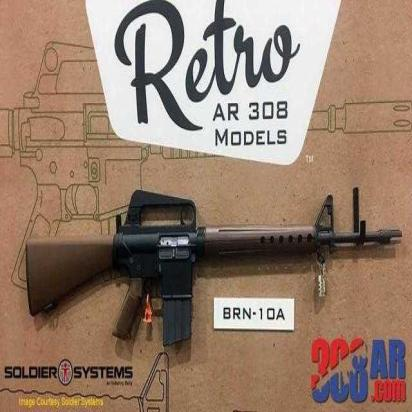Gun: (23, 164, 404, 379)
